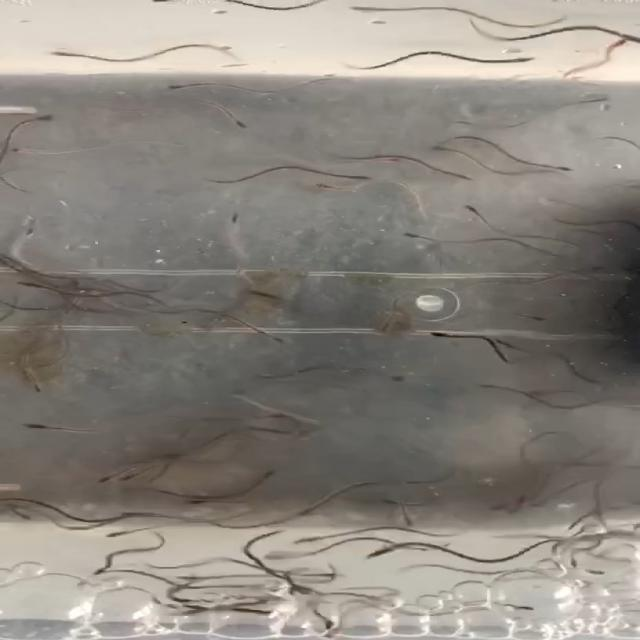active_glass_eel: (16, 212, 44, 242), (22, 371, 58, 394), (459, 203, 497, 224), (0, 140, 48, 156), (252, 327, 294, 345), (419, 324, 469, 339), (14, 277, 58, 294), (496, 54, 544, 69), (42, 48, 88, 63), (464, 378, 512, 392), (243, 468, 280, 486), (340, 1, 390, 14), (394, 228, 439, 242), (361, 545, 403, 560), (29, 110, 68, 126), (89, 468, 128, 484), (225, 106, 253, 128), (512, 310, 556, 324), (5, 507, 41, 524), (288, 535, 330, 549), (20, 422, 65, 435), (598, 35, 634, 51), (317, 618, 343, 640), (164, 79, 202, 94), (368, 495, 406, 509), (448, 168, 482, 183), (82, 564, 107, 584), (119, 510, 164, 521), (280, 427, 324, 438), (100, 528, 140, 540), (486, 500, 526, 512), (253, 412, 301, 422), (537, 160, 576, 172), (498, 601, 533, 614), (506, 500, 531, 518), (382, 374, 419, 386), (178, 497, 214, 509), (225, 205, 244, 227), (114, 470, 145, 483), (366, 156, 406, 166), (425, 147, 469, 156), (314, 181, 342, 194), (400, 512, 421, 529)
